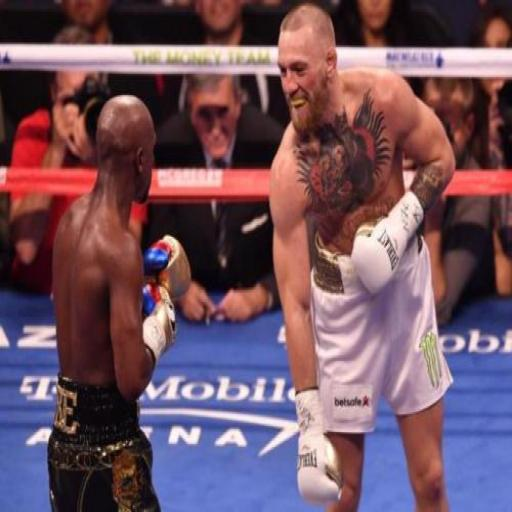boxing: (267, 2, 457, 510), (45, 75, 265, 512)
